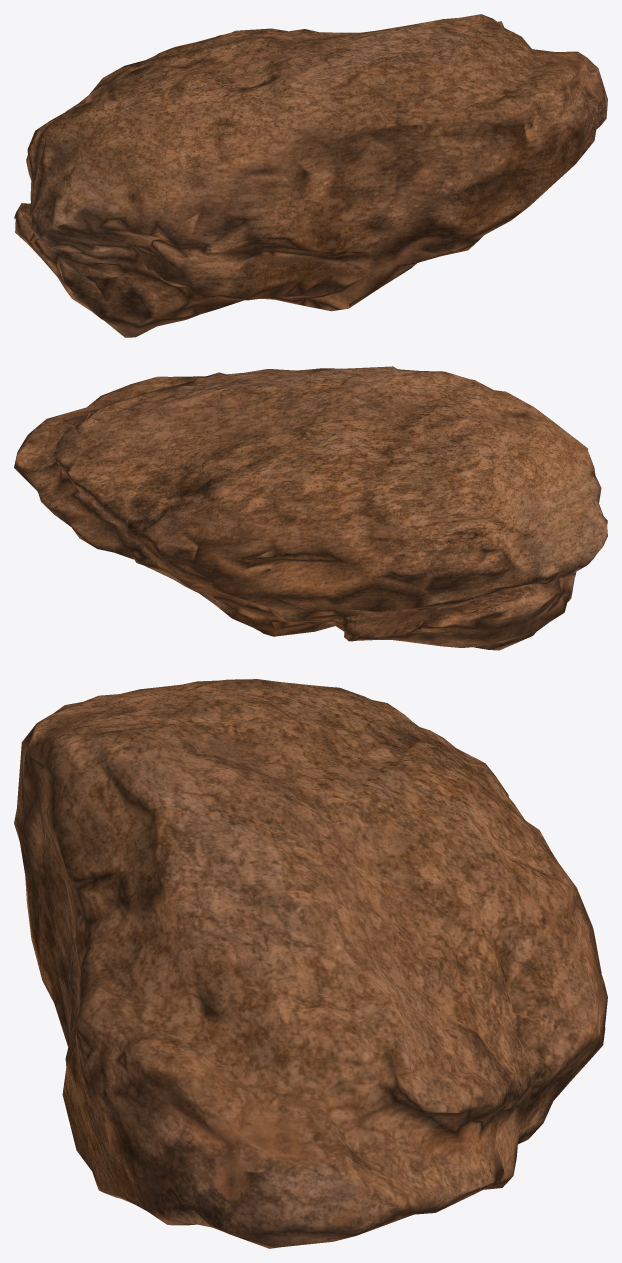
The model's file is node_metal_1.glb.
3 views of the same model, one above another, from view 1: azimuth 30°, elevation 25°; view 2: azimuth 150°, elevation 25°; view 3: azimuth 270°, elevation 25° (orthographic). The views are drawn at different scales.
Parts seen in each view (by area): view 1: namaqualand_boulder_05; view 2: namaqualand_boulder_05; view 3: namaqualand_boulder_05.
Part boxes in pixels (left/top/right/bottom): namaqualand_boulder_05: left=14, top=14, right=607, bottom=337; namaqualand_boulder_05: left=14, top=366, right=607, bottom=650; namaqualand_boulder_05: left=14, top=679, right=607, bottom=1248.
Bounding box in the file's own units: 1.97 × 0.7695 × 1.08.
1 material, 1 textured.
